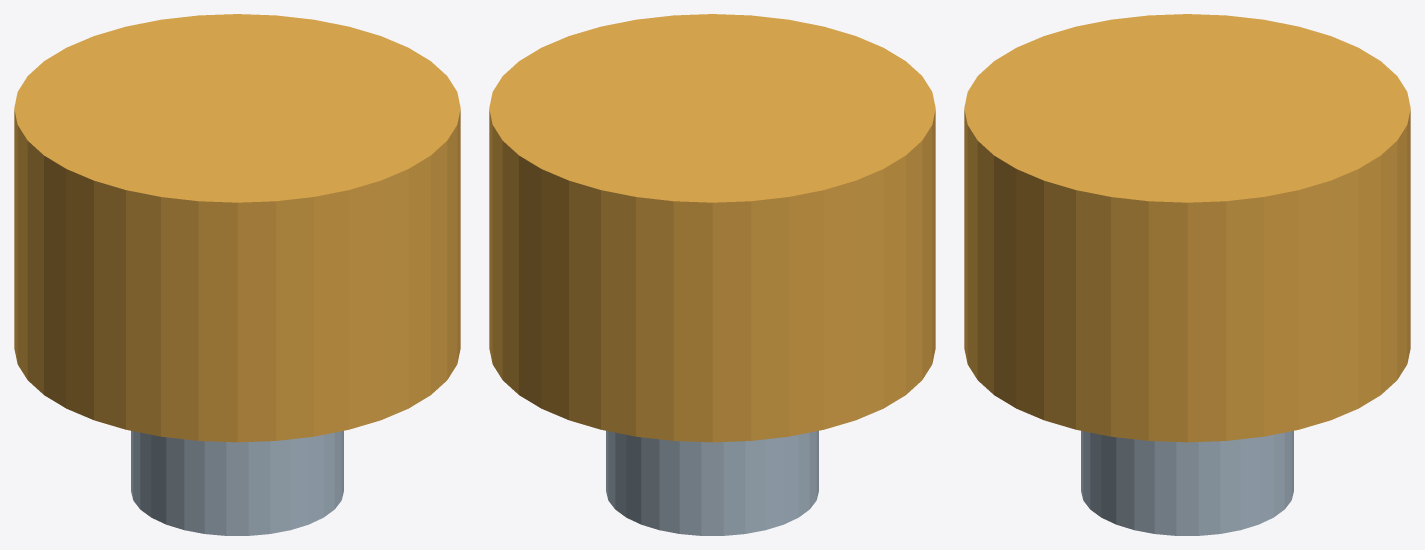
File: 39_L92_PercussionActuator.fbx
3 renders of one model, left to right at view 1: azimuth 30°, elevation 25°; view 2: azimuth 150°, elevation 25°; view 3: azimuth 270°, elevation 25°, orthographic.
Parts seen in each view (by area): view 1: L92_PercussionActuator_Part_0000, L92_PercussionActuator_Part_0001; view 2: L92_PercussionActuator_Part_0000, L92_PercussionActuator_Part_0001; view 3: L92_PercussionActuator_Part_0000, L92_PercussionActuator_Part_0001.
Boxes of the visible parts, x1,y1,x2,y2 form: L92_PercussionActuator_Part_0000: (14, 14, 460, 442); L92_PercussionActuator_Part_0001: (131, 431, 343, 535); L92_PercussionActuator_Part_0000: (489, 14, 935, 442); L92_PercussionActuator_Part_0001: (606, 431, 818, 535); L92_PercussionActuator_Part_0000: (964, 14, 1410, 442); L92_PercussionActuator_Part_0001: (1081, 431, 1293, 535).
Size of the model in its own units: 130 by 123 by 130.
